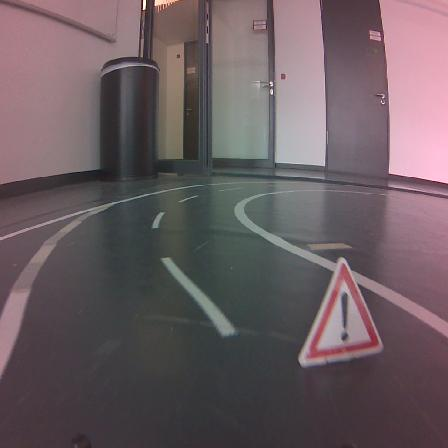ATTENTION: (299, 258, 382, 366)
